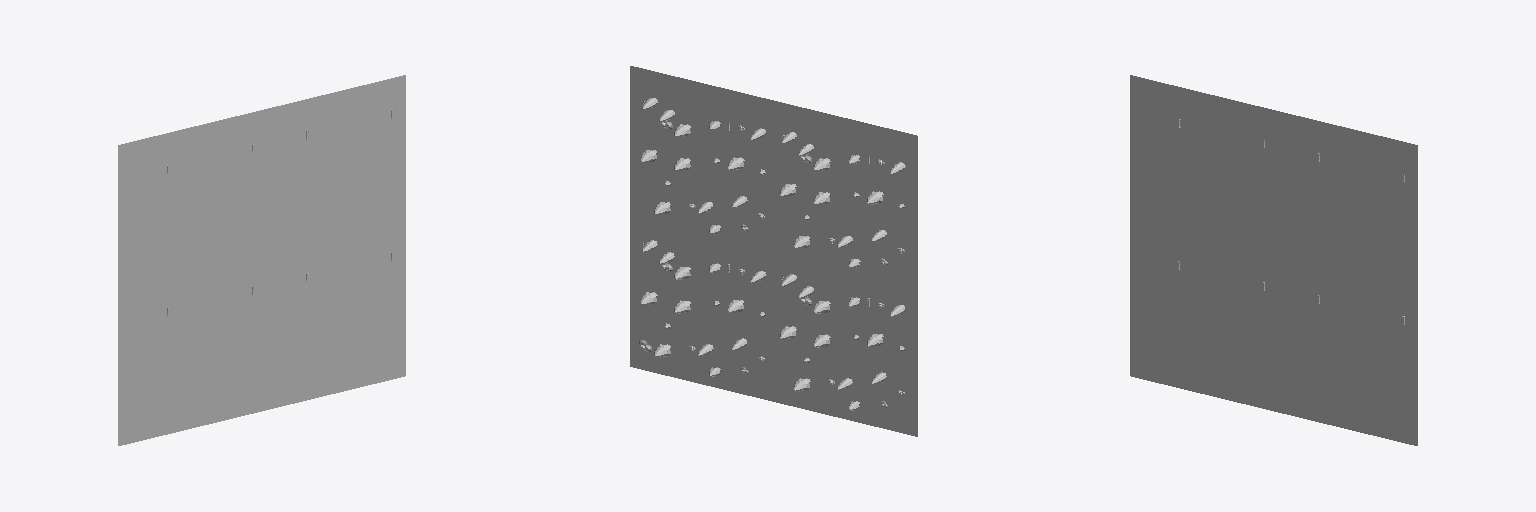
The model's file is ground.001.obj.
3 renders of one model, left to right at view 1: azimuth 30°, elevation 25°; view 2: azimuth 150°, elevation 25°; view 3: azimuth 330°, elevation 25°, orthographic.
Parts seen in each view (by area): view 1: ground.001; view 2: ground.001; view 3: ground.001.
Part boxes in pixels (x1,y1,x2,y2): ground.001: (118,75,405,445); ground.001: (630,66,917,436); ground.001: (1130,75,1417,445).
Bounding box in the file's own units: 1 × 1 × 0.0821.